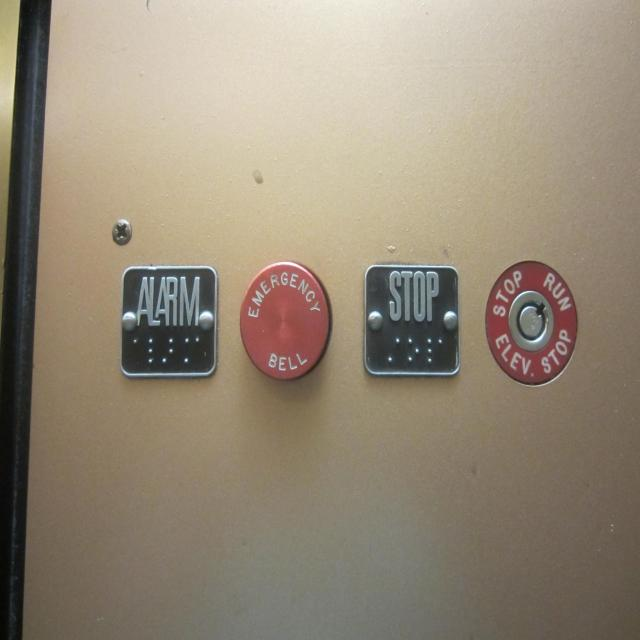keyhole: (478, 253, 582, 389)
text: (234, 258, 336, 387), (117, 260, 221, 382), (360, 259, 464, 381)
